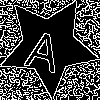A: (24, 21, 67, 74)
